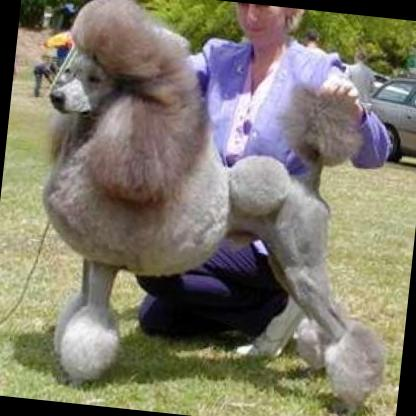standard_poodle: (15, 0, 416, 416)
